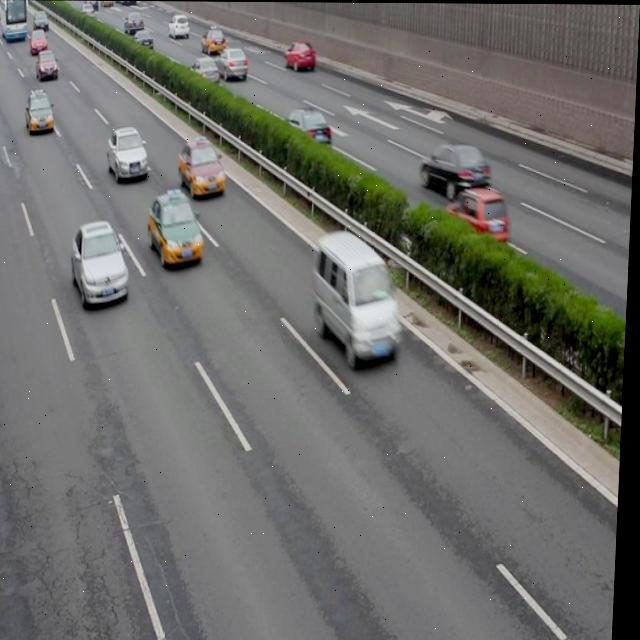car: (71, 222, 134, 307), (149, 191, 207, 267), (443, 188, 512, 250), (419, 141, 492, 196), (178, 135, 228, 199), (108, 125, 152, 187), (281, 107, 335, 151), (27, 89, 57, 135), (216, 46, 249, 83), (285, 41, 316, 73), (191, 56, 220, 86), (200, 25, 226, 55), (37, 51, 60, 81), (168, 14, 191, 38), (131, 29, 154, 53), (31, 31, 47, 55)
truck: (314, 229, 405, 367)
